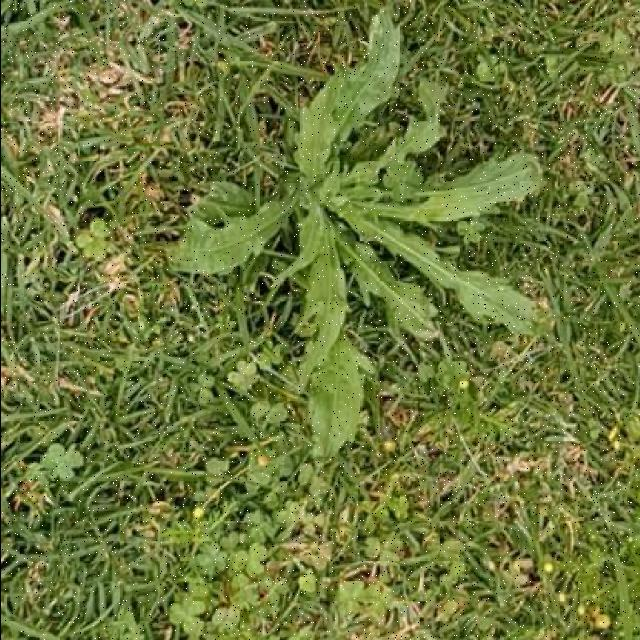weed: (165, 9, 542, 458)
